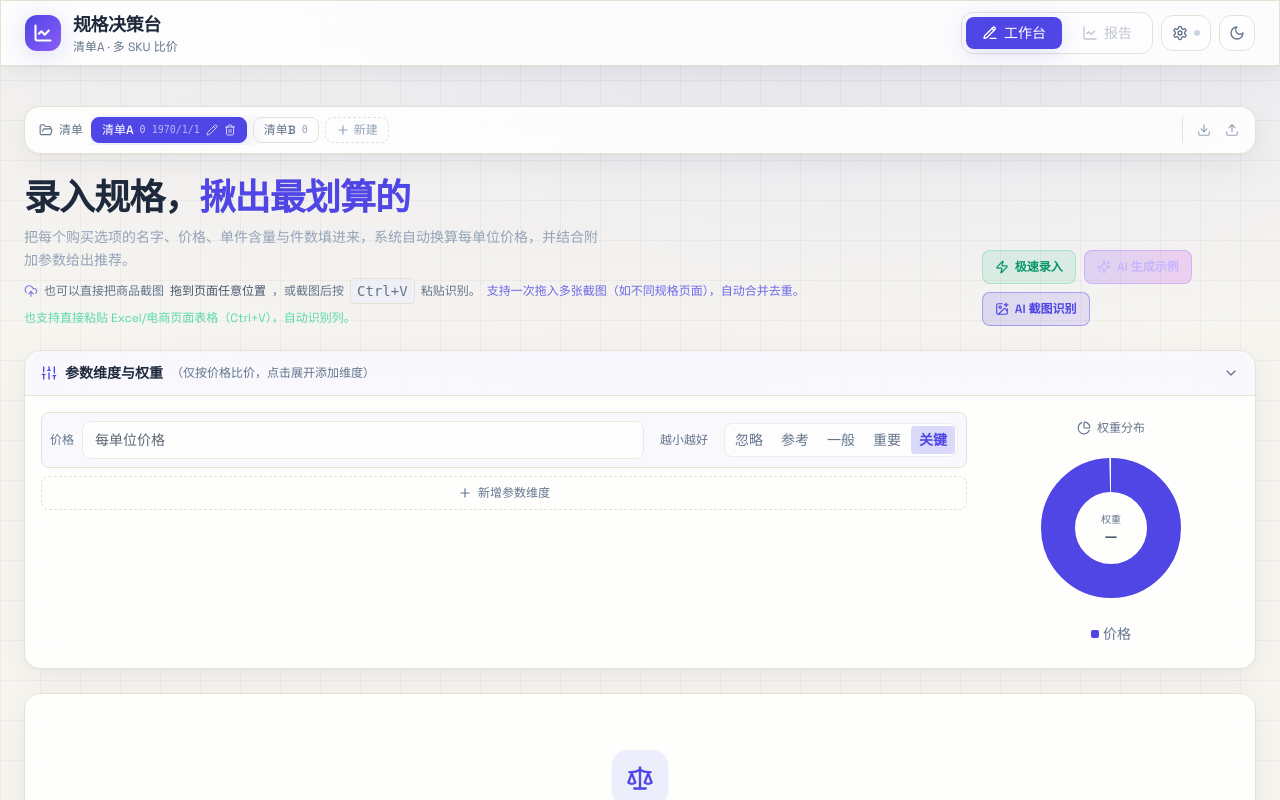
Test case: App 撤销 toast › 删除清单后弹出撤销提示，点击撤销可恢复该清单
The image size is (1280, 800).
# 激活清单 A：删除需二次确认
Click the button named "删除清单" at (230, 130), box [224, 124, 236, 136]
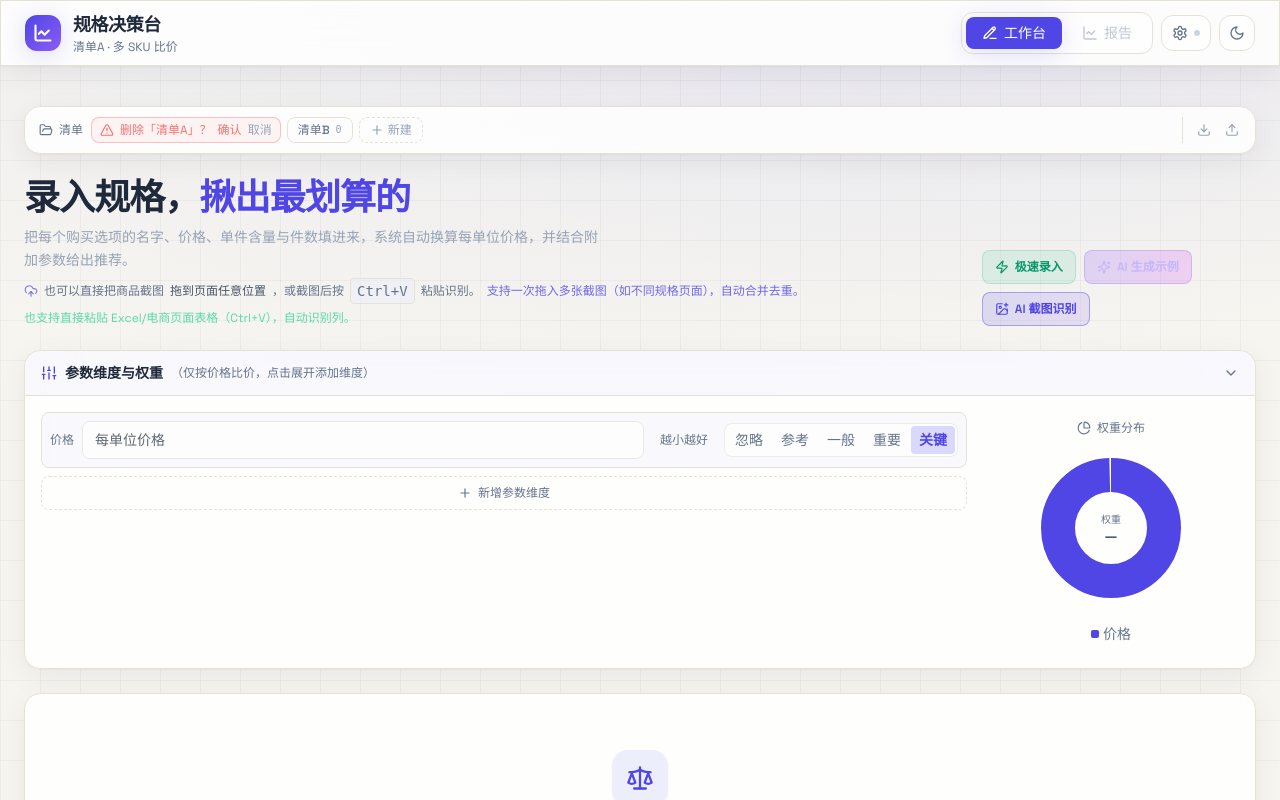
Click the button "确认" at (230, 130), box [218, 122, 242, 138]
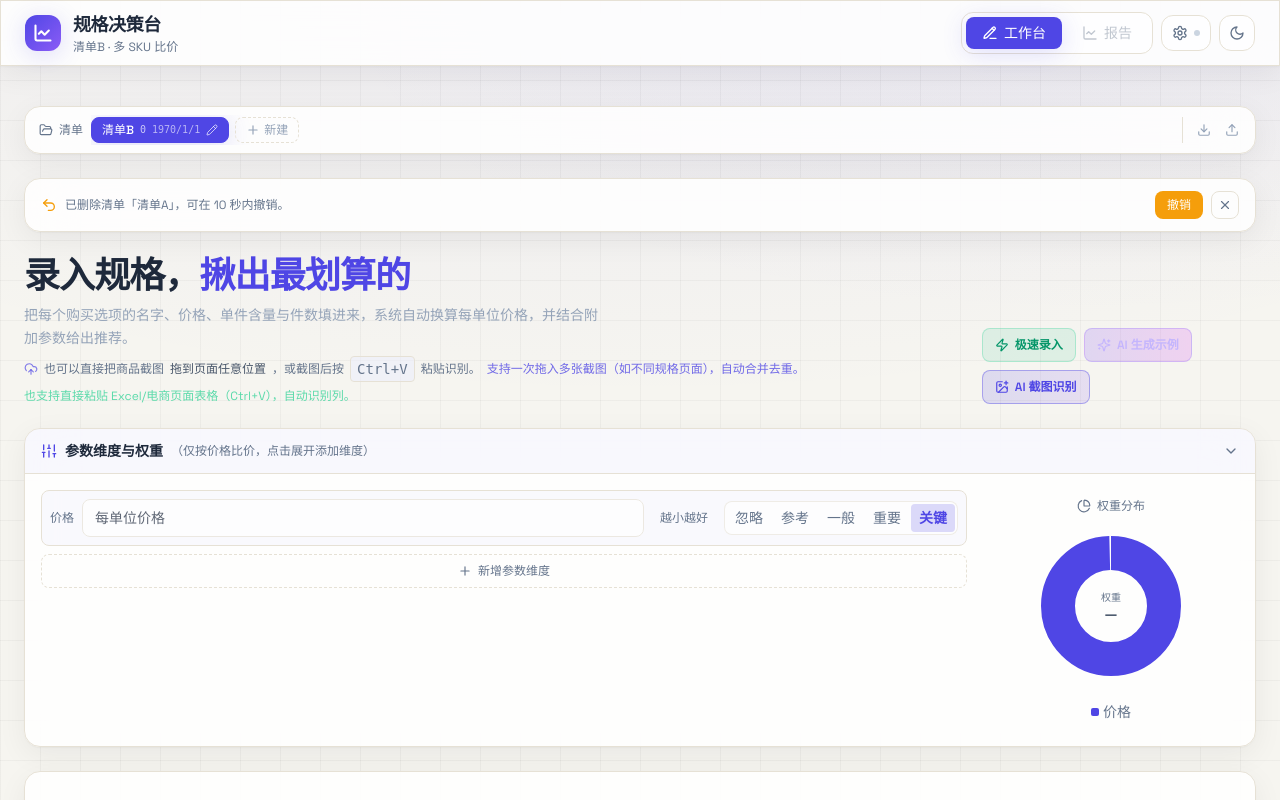
Check: the text "已删除清单「清单A」，可在 10 秒内撤销。" is shown, box [65, 197, 290, 213]
Click the button "撤销" at (1179, 205), box [1155, 191, 1203, 219]
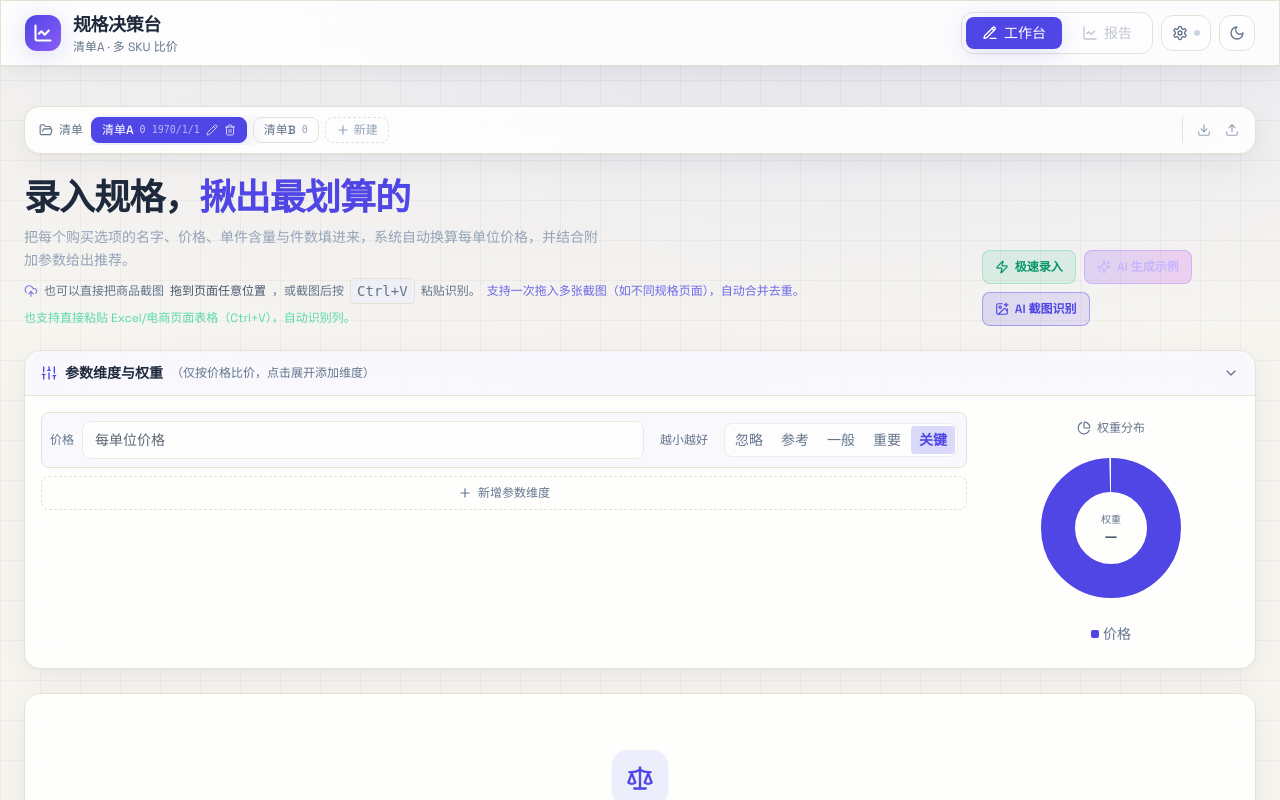
Check: the button "清单A" is shown, box [102, 122, 134, 138]
Check: the message "已删除清单「清单A」，可在 10 秒内撤销。 撤销" is gone
